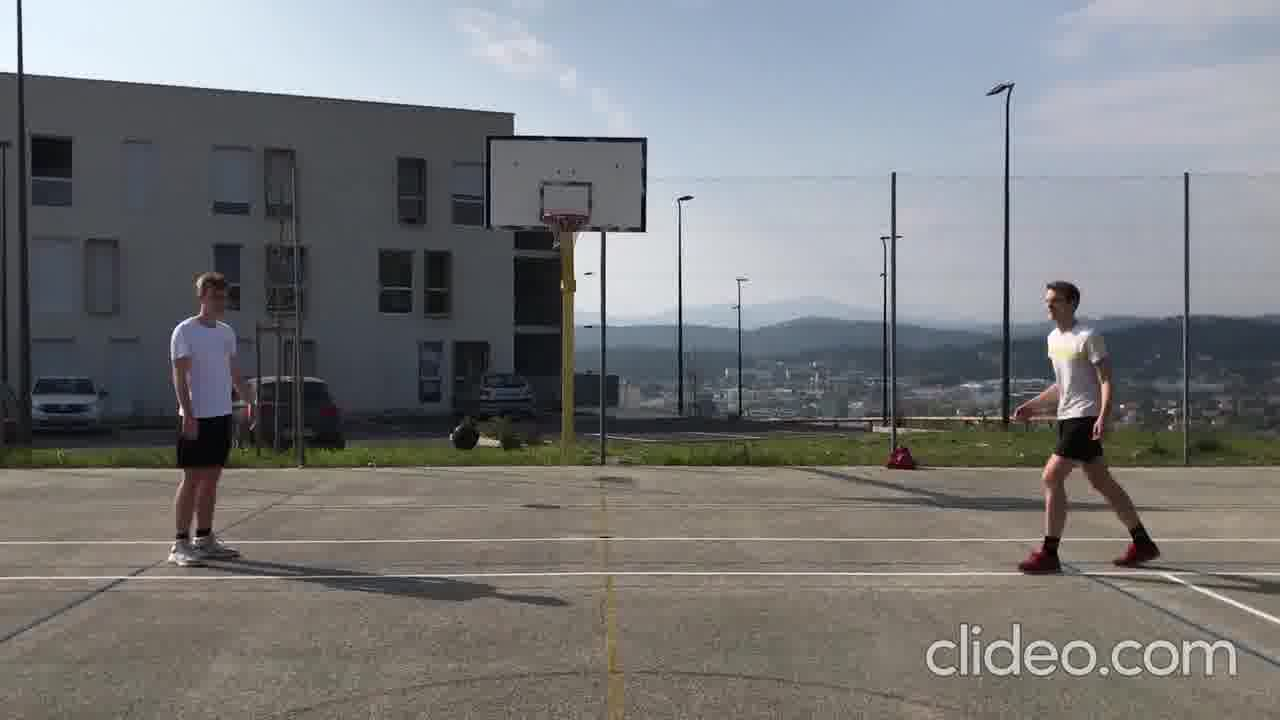jugador: (997, 271, 1170, 582)
